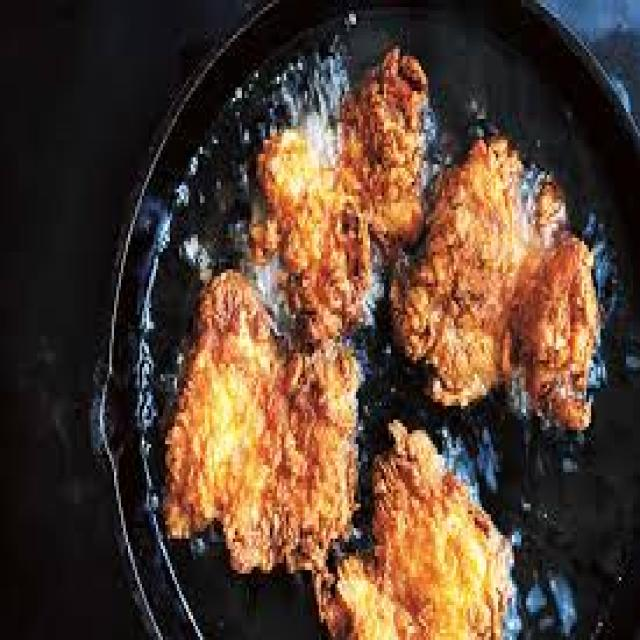Frango: (165, 63, 600, 633)
